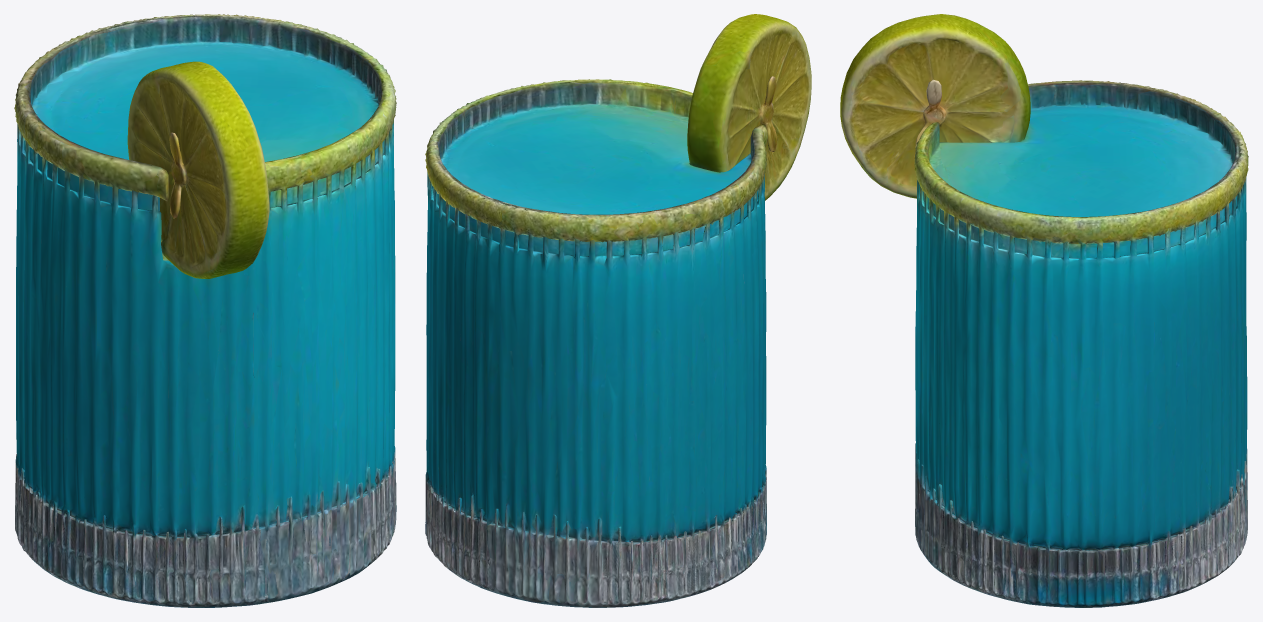
File: modelo-02.glb
The picture shows the model from 3 angles, left to right: view 1: azimuth 30°, elevation 25°; view 2: azimuth 150°, elevation 25°; view 3: azimuth 270°, elevation 25°; orthographic projection. The views are drawn at different scales.
Visible parts, largest first — view 1: tripo_node_cce7419a-7a1e-444e-80f0-40cdbb82f544; view 2: tripo_node_cce7419a-7a1e-444e-80f0-40cdbb82f544; view 3: tripo_node_cce7419a-7a1e-444e-80f0-40cdbb82f544.
Boxes of the visible parts, bbox=[...] form: tripo_node_cce7419a-7a1e-444e-80f0-40cdbb82f544: bbox=[14, 14, 396, 607]; tripo_node_cce7419a-7a1e-444e-80f0-40cdbb82f544: bbox=[425, 14, 811, 607]; tripo_node_cce7419a-7a1e-444e-80f0-40cdbb82f544: bbox=[840, 14, 1248, 607].
Size of the model in its own units: 0.6289 by 0.9801 by 0.7552.
1 material, 1 textured.
